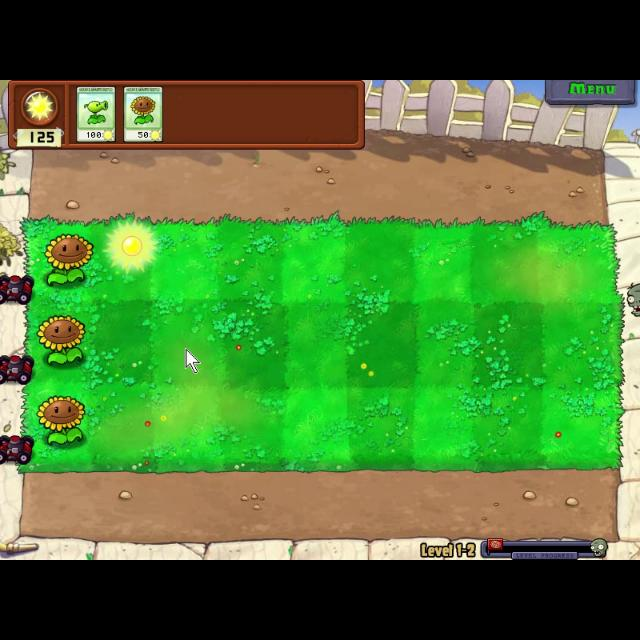Garden: (17, 212, 627, 472)
Menu Button: (544, 80, 636, 104)
Mower: (1, 268, 34, 308), (1, 352, 36, 384), (0, 432, 34, 463)
Peashooter: (75, 86, 118, 142)
Seed Panel: (7, 80, 365, 152)
Sun: (105, 221, 162, 271)
Sunflower: (122, 85, 164, 143)
Sunflower Seed: (32, 310, 88, 372), (34, 392, 92, 448), (43, 232, 99, 288)
Zombie: (626, 282, 640, 316)
